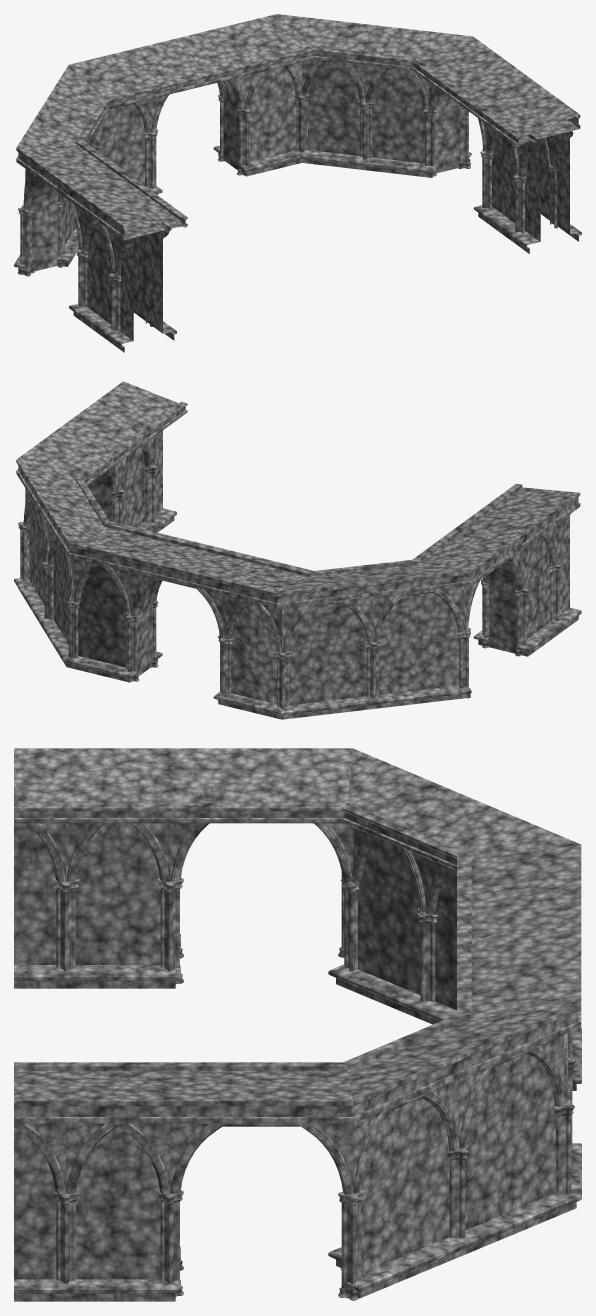
File: CourtyardWalls.fbx
The picture shows the model from 3 angles, top to bottom: view 1: azimuth 30°, elevation 25°; view 2: azimuth 150°, elevation 25°; view 3: azimuth 270°, elevation 25°; orthographic projection. The views are drawn at different scales.
Parts seen in each view (by area): view 1: Courtyard_Walls; view 2: Courtyard_Walls; view 3: Courtyard_Walls.
Part boxes in pixels (box(x1,y1,x2,y2)): Courtyard_Walls: box(14, 14, 581, 352); Courtyard_Walls: box(14, 381, 581, 719); Courtyard_Walls: box(14, 748, 581, 1301).
Size of the model in its own units: 34.05 by 8.98 by 22.98.
